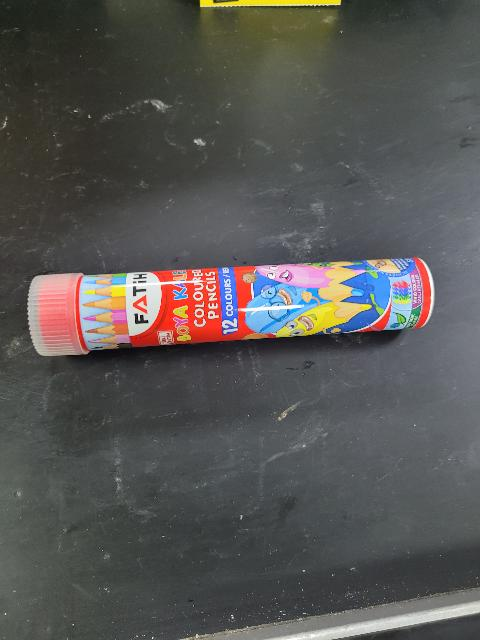Metal: (81, 253, 434, 345)
Plastik: (24, 248, 79, 369)
